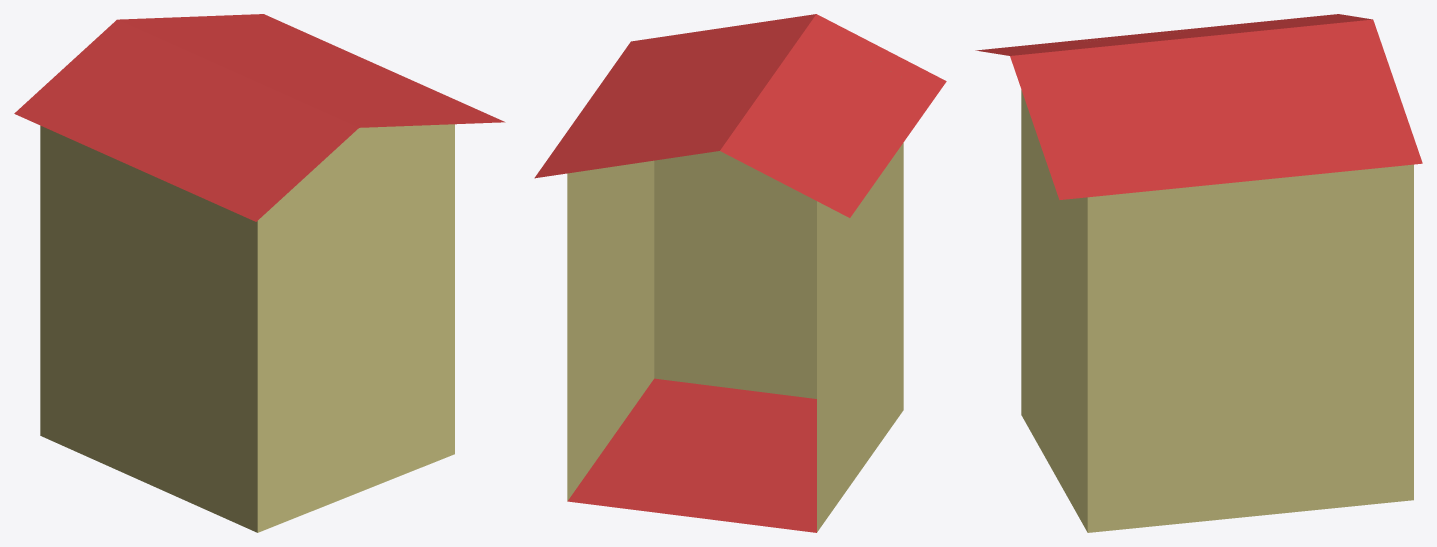
The picture shows the model from 3 angles, left to right: view 1: azimuth 30°, elevation 25°; view 2: azimuth 150°, elevation 25°; view 3: azimuth 270°, elevation 25°; orthographic projection. The views are drawn at different scales.
Bounding box in the file's own units: 5.76 × 5.86 × 5.89.
